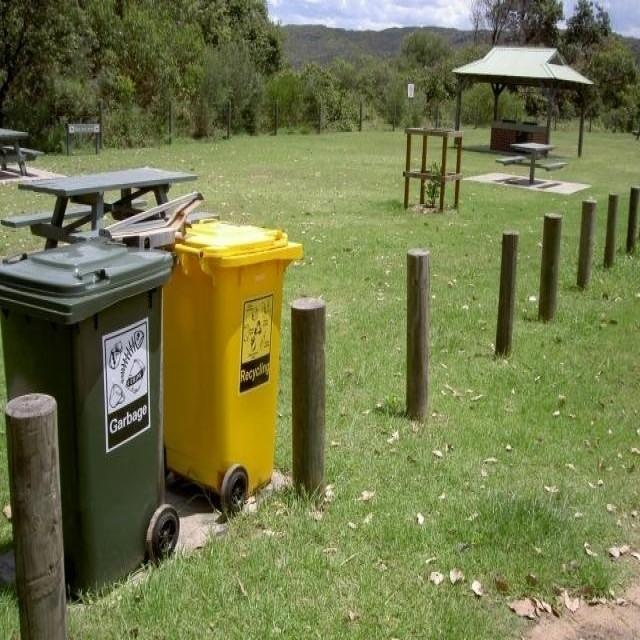Plastics: (10, 104, 279, 514)
